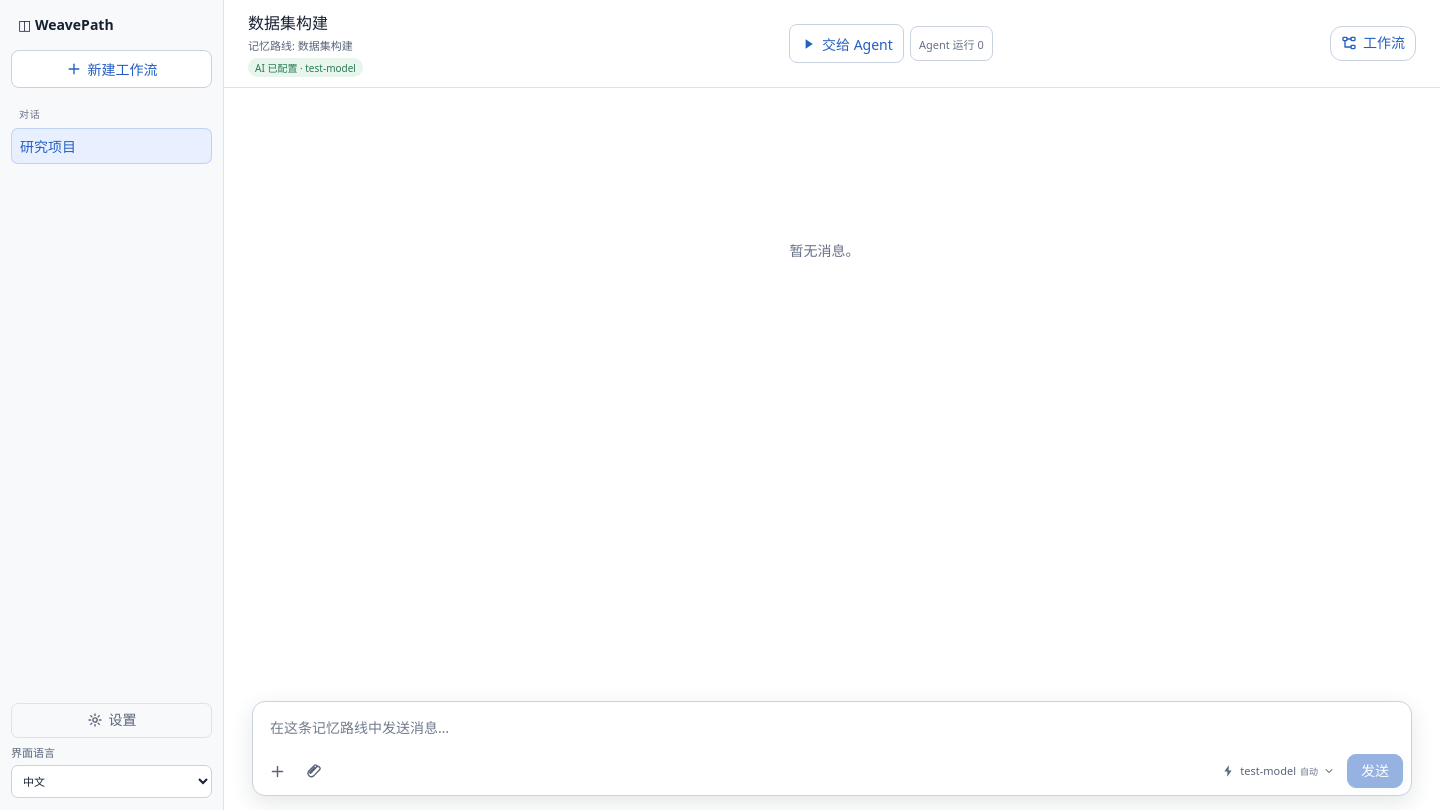
chat delivery mode › uses the chat endpoint and renders the assistant reply when AI is configured
The width and height of the screenshot is (1440, 810).
Expected: the text "AI 已配置 · test-model" is shown, 248,58 -> 363,77
Type "测试消息" into the text box at (832, 730), box 261,709 -> 1403,751
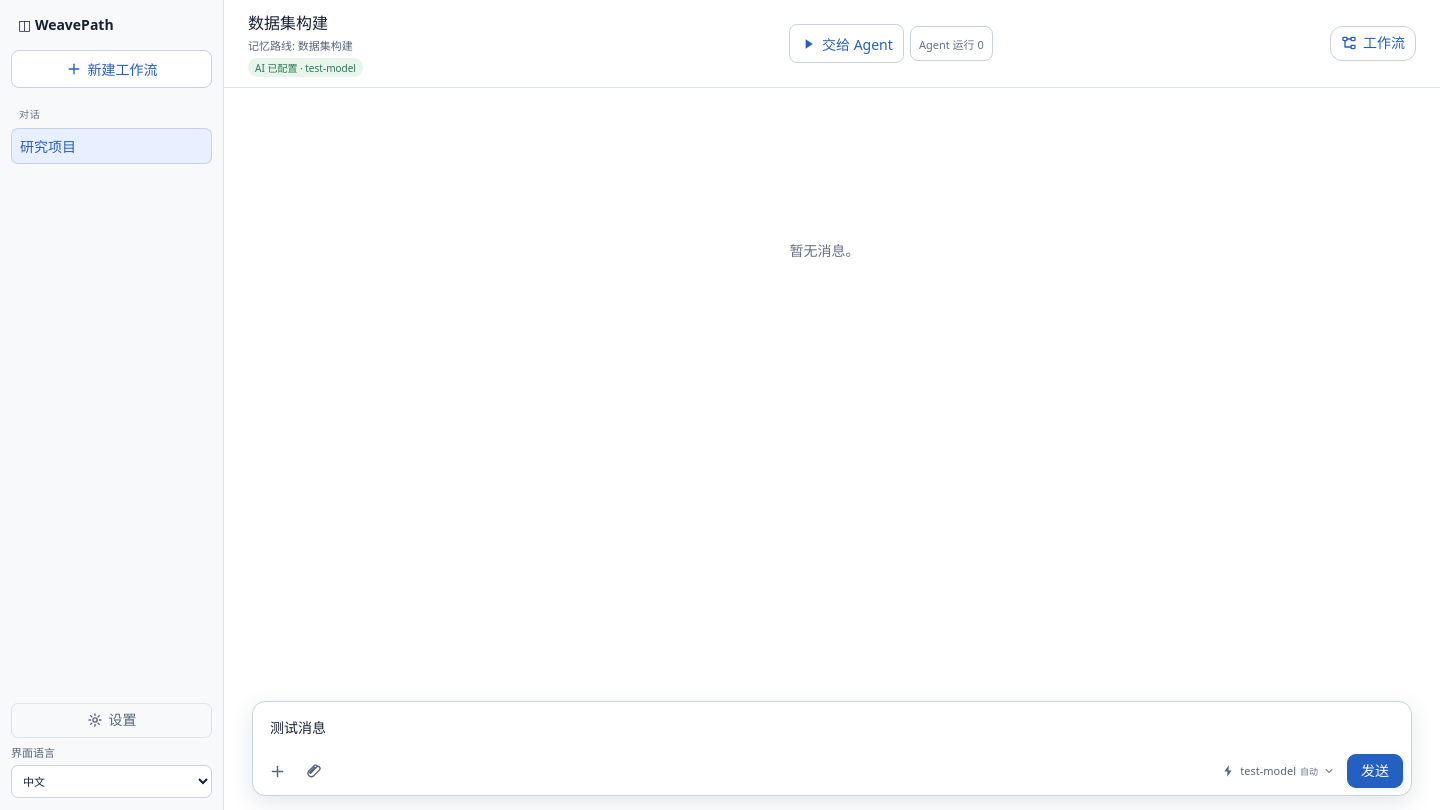
Click the button "发送" at (1375, 771), box 1347,754 -> 1403,788
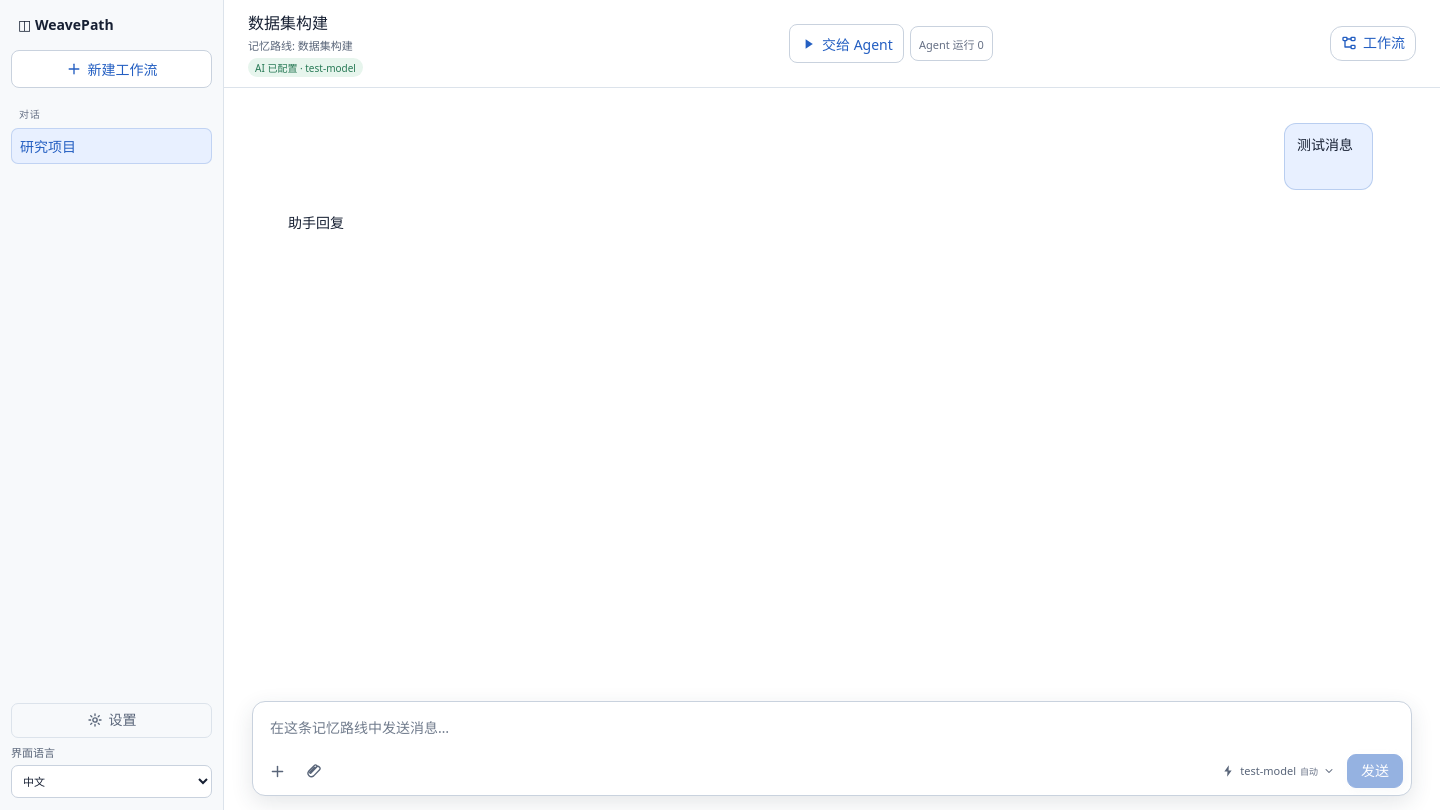
Expected: the text "助手回复" is shown, 288,213 -> 344,232
